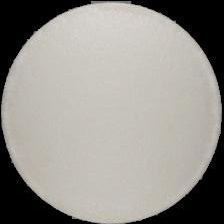61919-012: (0, 0, 224, 224)
